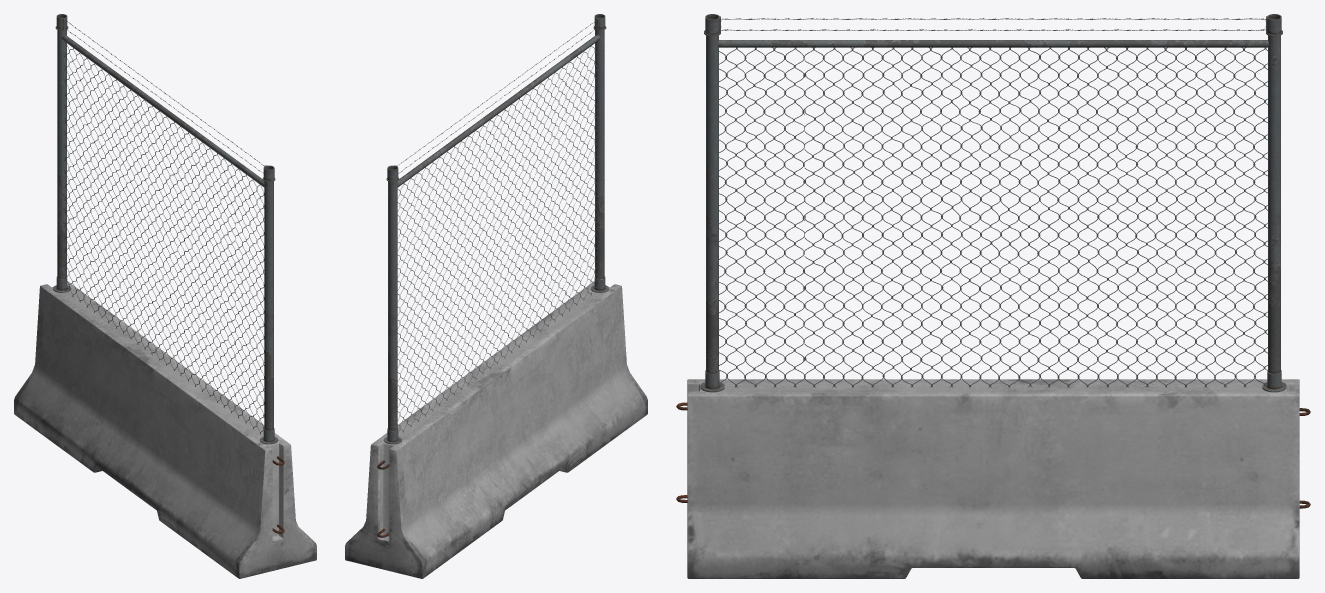
File: SM_Roadblock_2.fbx
3 views of the same model, side by side, from view 1: azimuth 30°, elevation 25°; view 2: azimuth 150°, elevation 25°; view 3: azimuth 270°, elevation 25° (orthographic). The views are drawn at different scales.
Parts seen in each view (by area): view 1: SM_Roadblock_2_LOD0; view 2: SM_Roadblock_2_LOD0; view 3: SM_Roadblock_2_LOD0.
Boxes of the visible parts, box(x1,y1,x2,y2) form: SM_Roadblock_2_LOD0: box(14, 14, 316, 578); SM_Roadblock_2_LOD0: box(345, 14, 647, 578); SM_Roadblock_2_LOD0: box(676, 14, 1310, 578).
Bounding box in the file's own units: 60 × 311 × 290.
Materials: 3 (3 with a texture image).
